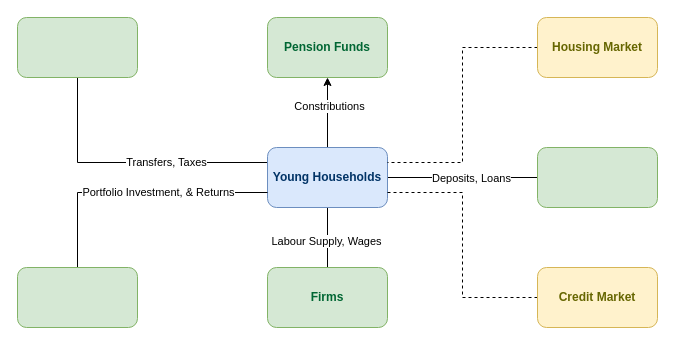
Some shapes in this 675 by 345 pixel diagram are drawn without their labels. Here are the shapes that lost their labels. From the top down, the centre of each, then its label:
At (77,47): "Government".
At (597,177): "Banks".
At (77,297): "Foreign Economy".
